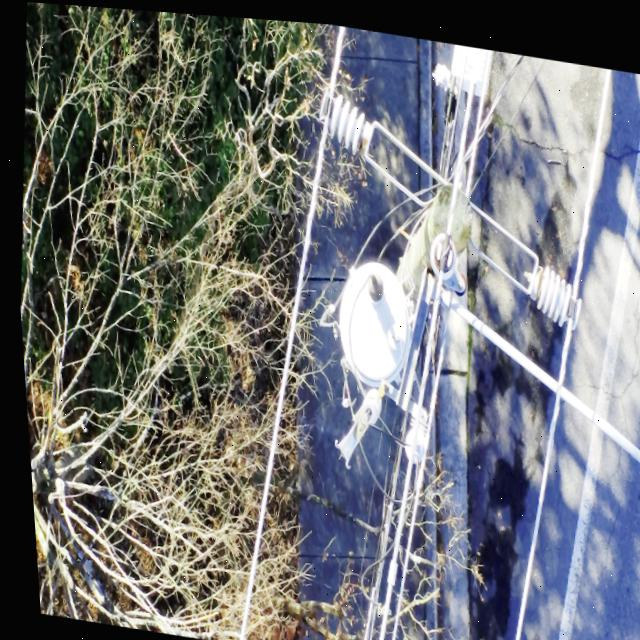poles: (329, 177, 469, 459)
wires: (352, 42, 496, 640), (230, 110, 325, 640), (329, 21, 344, 88)
